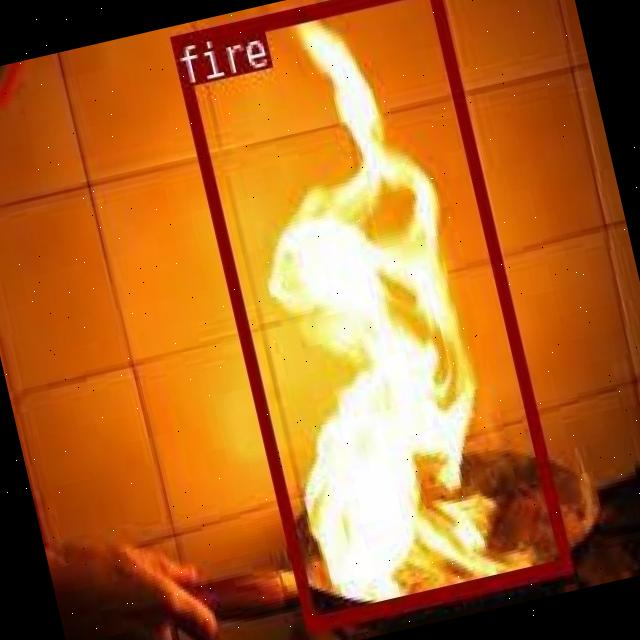fire: (169, 0, 569, 630)
